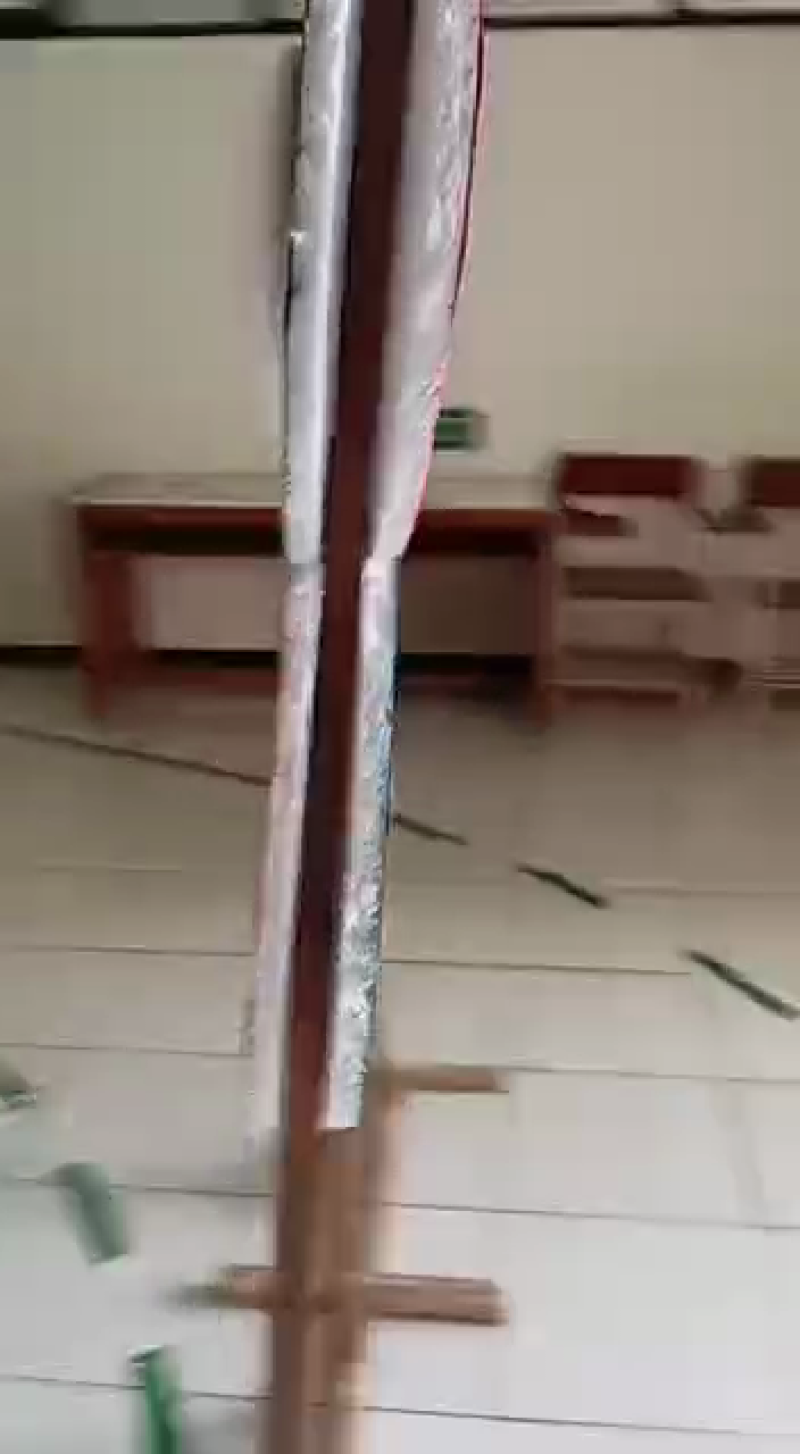batas maksimal 80kmperjam minimal 60kmperjam: (231, 1, 481, 1146)
